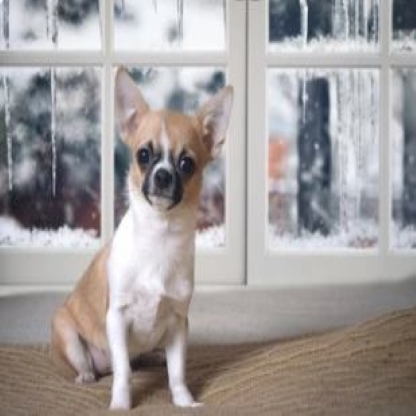chihuahua: (49, 64, 237, 411)
